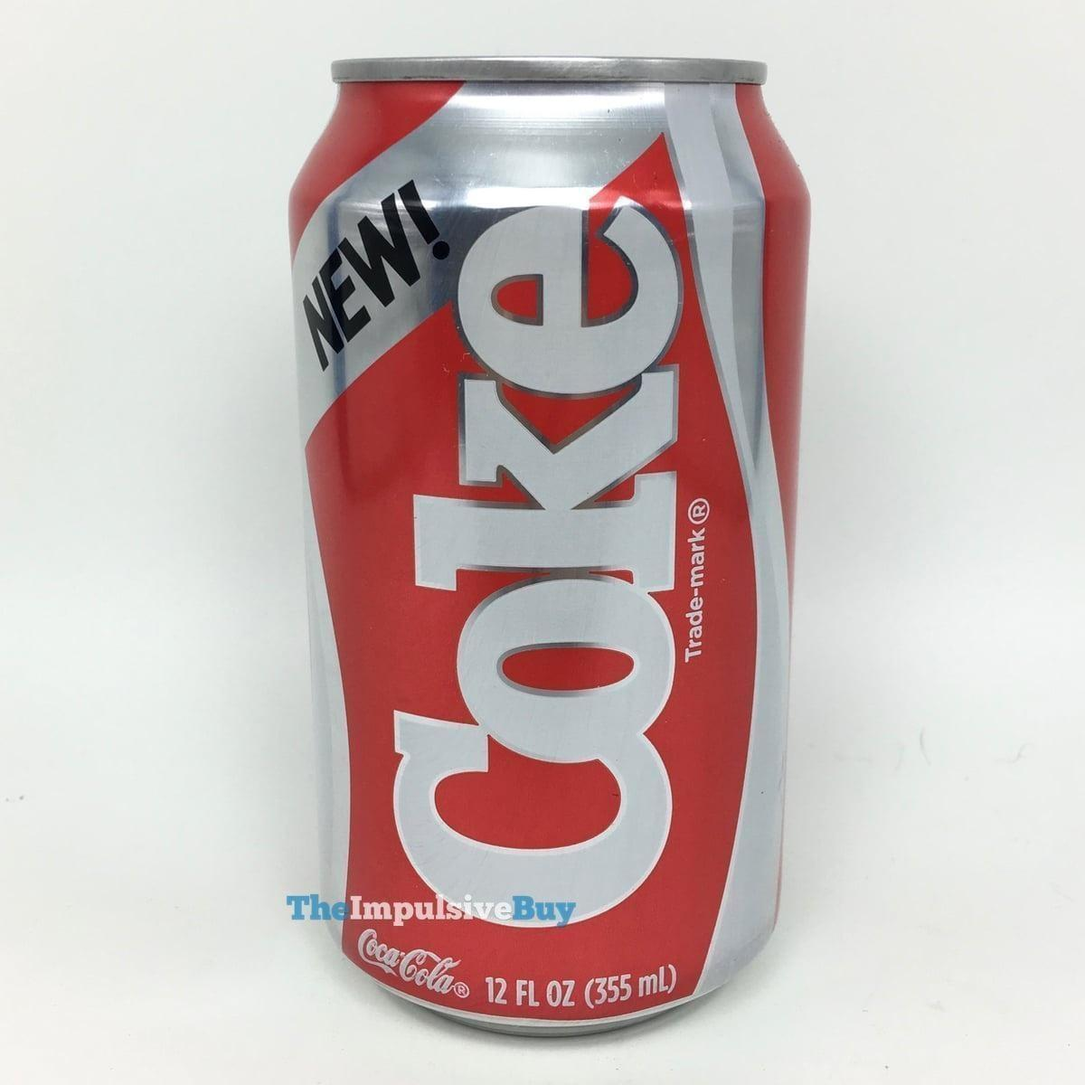tin can: (289, 42, 814, 1057)
